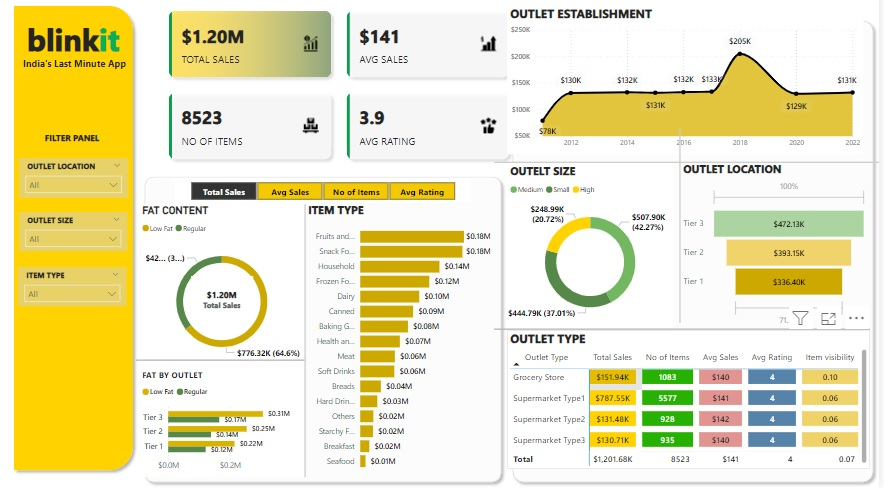

This screenshot's page, from the dashboard's own definition file:
{"tool":"powerbi","page":{"name":"Page 1","canvas":[1400,800],"ordinal":0},"visuals":[{"type":"shape","box":[27.6,31.2,205.8,750],"z":0},{"type":"textbox","box":[40.4,55.1,180.1,123.1],"z":1000},{"type":"textbox","box":[50.4,65.1,180.1,123.1],"z":2000},{"type":"textbox","box":[36.2,116.5,193.7,39.4],"z":3000},{"type":"cardVisual","fields":{"Data":["BlinkIT Grocery Data.Total Sales","BlinkIT Grocery Data.Avg Sales","BlinkIT Grocery Data.No of Items","BlinkIT Grocery Data.Avg Rating"]},"box":[264.6,31.5,570.1,269.3],"z":4000},{"type":"shape","box":[234.6,300.8,579.5,499.2],"z":5000},{"type":"donutChart","title":"FAT CONTENT","fields":{"Y":["BlinkIT Grocery Data.Total Sales"],"Category":["BlinkIT Grocery Data.Item Fat Content"]},"box":[235.2,352,260.8,260.8],"z":6000},{"type":"slicer","fields":{"Values":["Metrics.Metrics"]},"box":[291.3,311.8,464.6,39.4],"z":7000},{"type":"cardVisual","fields":{"Data":["BlinkIT Grocery Data.Total Sales"]},"box":[316.8,465.6,97.6,73.6],"z":8000},{"type":"clusteredBarChart","title":"FAT BY OUTLET","fields":{"Y":["BlinkIT Grocery Data.Total Sales"],"Category":["BlinkIT Grocery Data.Outlet Location Type"],"Series":["BlinkIT Grocery Data.Item Fat Content"]},"box":[234.6,612,260.1,170.1],"z":9000},{"type":"shape","box":[230.4,584,265.6,28.8],"z":10000},{"type":"shape","box":[488,352,16,430.4],"z":11000},{"type":"barChart","title":"ITEM TYPE","fields":{"Y":["BlinkIT Grocery Data.Total Sales"],"Category":["BlinkIT Grocery Data.Item Type"]},"box":[496.6,350,297.2,432.1],"z":12000},{"type":"shape","box":[814.2,55.1,585.8,744.9],"z":13000},{"type":"lineChart","title":"OUTLET ESTABLISHMENT","fields":{"Y":["BlinkIT Grocery Data.Total Sales"],"Category":["BlinkIT Grocery Data.Outlet Establishment Year"]},"box":[813.4,39.1,561.2,234.6],"z":14000},{"type":"shape","box":[793.9,271.8,606.1,29.3],"z":15000},{"type":"donutChart","title":"OUTELT SIZE","fields":{"Y":["BlinkIT Grocery Data.Total Sales"],"Category":["BlinkIT Grocery Data.Outlet Size"]},"box":[813.4,287.4,262,262],"z":16000},{"type":"shape","box":[1079.3,234.6,15.6,305],"z":17000},{"type":"funnel","title":"OUTLET LOCATION","fields":{"Category":["BlinkIT Grocery Data.Outlet Location Type"],"Y":["BlinkIT Grocery Data.Total Sales"]},"box":[1086.4,284.8,299.2,265.6],"z":18000},{"type":"shape","box":[793.6,536,592,28.8],"z":19000},{"type":"pivotTable","title":"OUTLET TYPE","fields":{"Rows":["BlinkIT Grocery Data.Outlet Type"],"Values":["BlinkIT Grocery Data.Total Sales","BlinkIT Grocery Data.No of Items","BlinkIT Grocery Data.Avg Sales","BlinkIT Grocery Data.Avg Rating","Avg(BlinkIT Grocery Data.Item Visibility)"]},"box":[814.2,551.2,571.7,218.9],"z":20000},{"type":"slicer","title":"FAT CONTENT","fields":{"Values":["BlinkIT Grocery Data.Outlet Location Type"]},"box":[45.7,280.3,171.7,63],"z":21000},{"type":"slicer","title":"FAT CONTENT","fields":{"Values":["BlinkIT Grocery Data.Outlet Size"]},"box":[45.9,365.6,170.9,62.5],"z":22000},{"type":"slicer","title":"FAT CONTENT","fields":{"Values":["BlinkIT Grocery Data.Item Type"]},"box":[44.1,452,170.9,62.5],"z":23000},{"type":"textbox","box":[50.4,234.6,157.5,37.8],"z":24000}]}

Visuals, with their boxes on the page's 1400x800 design canvas (x1, y1, x2, y2). These are canvas units, not pixel positions in the 884x488 screenshot, which may show the page scaled, cropped or inside an application window:
shape: locate(28, 31, 233, 781)
textbox: locate(40, 55, 220, 178)
textbox: locate(50, 65, 230, 188)
textbox: locate(36, 116, 230, 156)
cardVisual - BlinkIT Grocery Data.Total Sales x BlinkIT Grocery Data.Avg Sales: locate(265, 32, 835, 301)
shape: locate(235, 301, 814, 800)
"FAT CONTENT" donutChart: locate(235, 352, 496, 613)
slicer - Metrics.Metrics: locate(291, 312, 756, 351)
cardVisual - BlinkIT Grocery Data.Total Sales: locate(317, 466, 414, 539)
"FAT BY OUTLET" clusteredBarChart: locate(235, 612, 495, 782)
shape: locate(230, 584, 496, 613)
shape: locate(488, 352, 504, 782)
"ITEM TYPE" barChart: locate(497, 350, 794, 782)
shape: locate(814, 55, 1400, 800)
"OUTLET ESTABLISHMENT" lineChart: locate(813, 39, 1375, 274)
shape: locate(794, 272, 1400, 301)
"OUTELT SIZE" donutChart: locate(813, 287, 1075, 549)
shape: locate(1079, 235, 1095, 540)
"OUTLET LOCATION" funnel: locate(1086, 285, 1386, 550)
shape: locate(794, 536, 1386, 565)
"OUTLET TYPE" pivotTable: locate(814, 551, 1386, 770)
"FAT CONTENT" slicer: locate(46, 280, 217, 343)
"FAT CONTENT" slicer: locate(46, 366, 217, 428)
"FAT CONTENT" slicer: locate(44, 452, 215, 514)
textbox: locate(50, 235, 208, 272)
